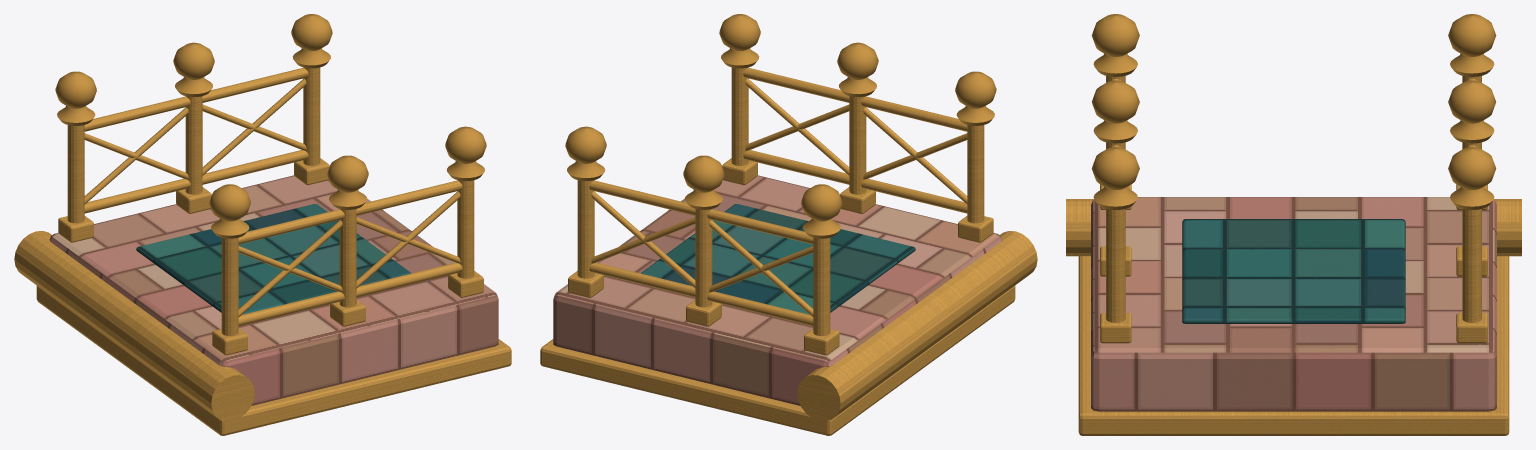
File: act2_exit_ramp.glb
3 views of the same model, side by side, from view 1: azimuth 30°, elevation 25°; view 2: azimuth 150°, elevation 25°; view 3: azimuth 270°, elevation 25° (orthographic). The views are drawn at different scales.
Visible parts, largest first — view 1: ANIM_Act2_ExitFlap_Mesh; view 2: ANIM_Act2_ExitFlap_Mesh; view 3: ANIM_Act2_ExitFlap_Mesh.
Boxes of the visible parts, x1,y1,x2,y2 form: ANIM_Act2_ExitFlap_Mesh: [14, 14, 511, 435]; ANIM_Act2_ExitFlap_Mesh: [540, 14, 1037, 435]; ANIM_Act2_ExitFlap_Mesh: [1066, 14, 1521, 435].
Bounding box in the file's own units: 0.99 × 0.7216 × 1.1.
3 materials, 3 textured.
